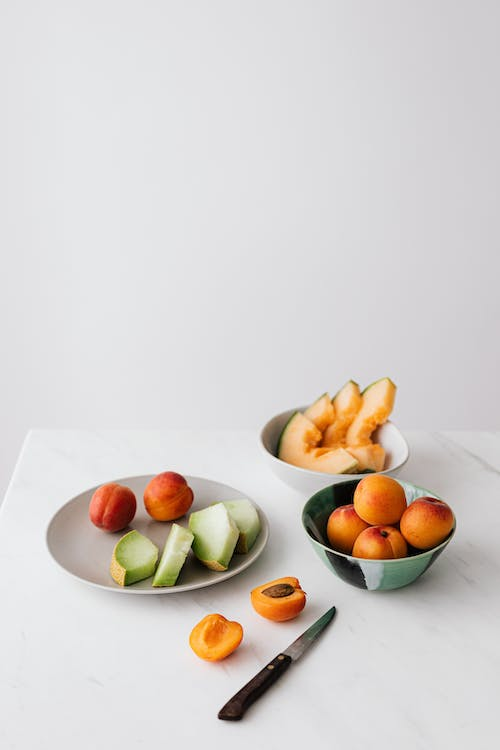knife: (216, 601, 339, 724)
